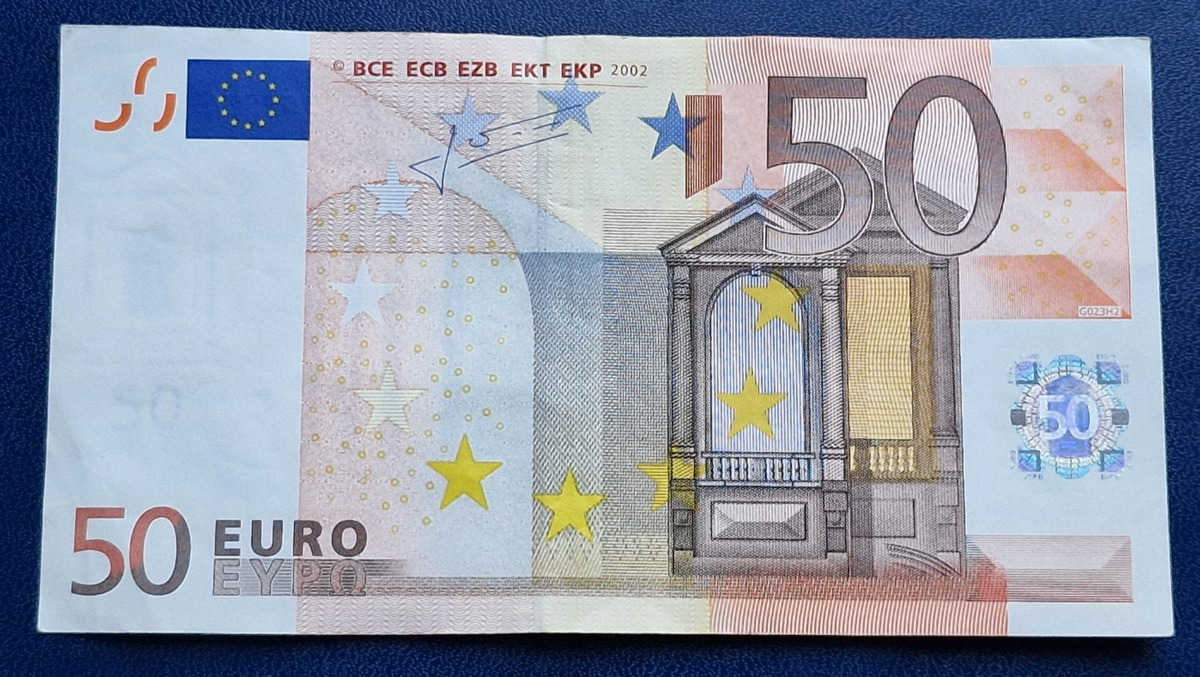Nota de 50€: (31, 22, 1179, 648)
